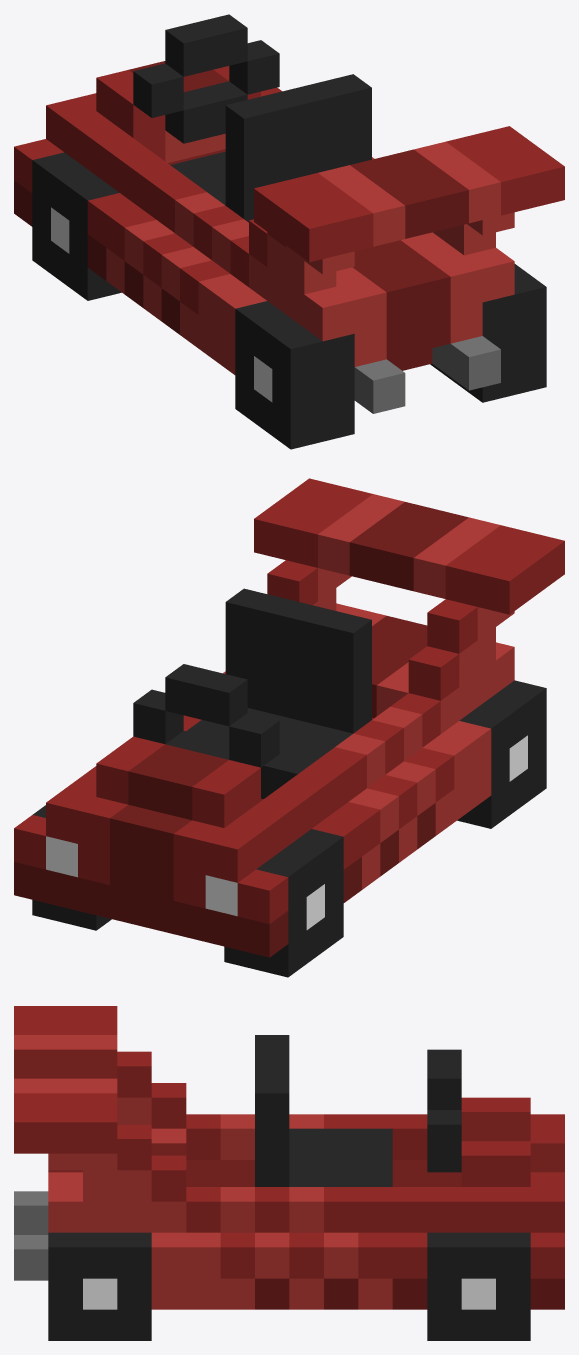
File: Kart.glb
3 renders of one model, top to bottom at view 1: azimuth 30°, elevation 25°; view 2: azimuth 150°, elevation 25°; view 3: azimuth 270°, elevation 25°, orthographic. The views are drawn at different scales.
Visible parts, largest first — view 1: Untitled; view 2: Untitled; view 3: Untitled.
Boxes of the visible parts, x1,y1,x2,y2 form: Untitled: (14,14,564,449); Untitled: (14,478,564,977); Untitled: (14,1006,564,1340).
Size of the model in its own units: 0.8 by 0.7 by 1.6.
1 material, 1 textured.
